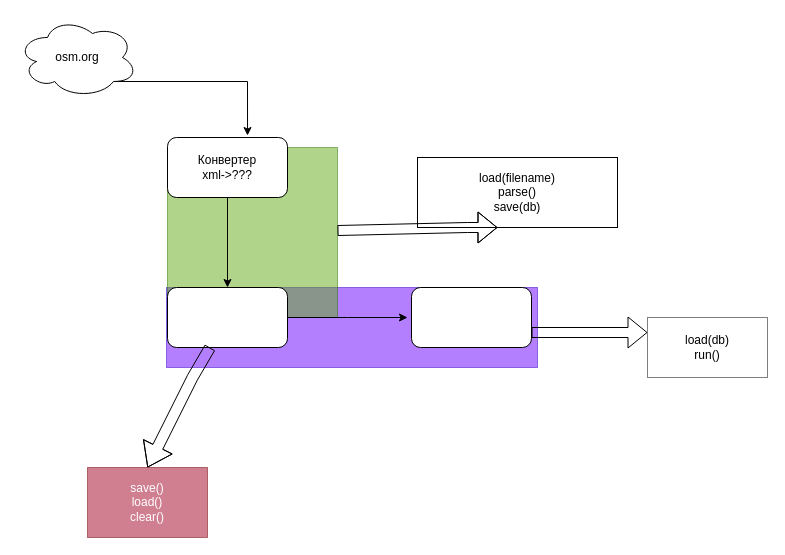
This 785x555 diagram has some shape labels left out. Here are the shapes that lost their labels. From the top down, the centre of each, then its label:
point 227,317: База данных ???
point 471,317: Визуализатор pygame
